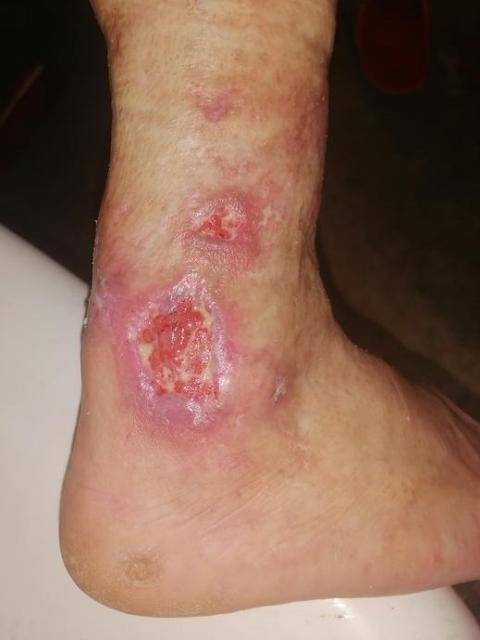wound: (130, 295, 230, 427), (197, 201, 245, 245), (86, 266, 110, 325), (272, 377, 288, 404)
